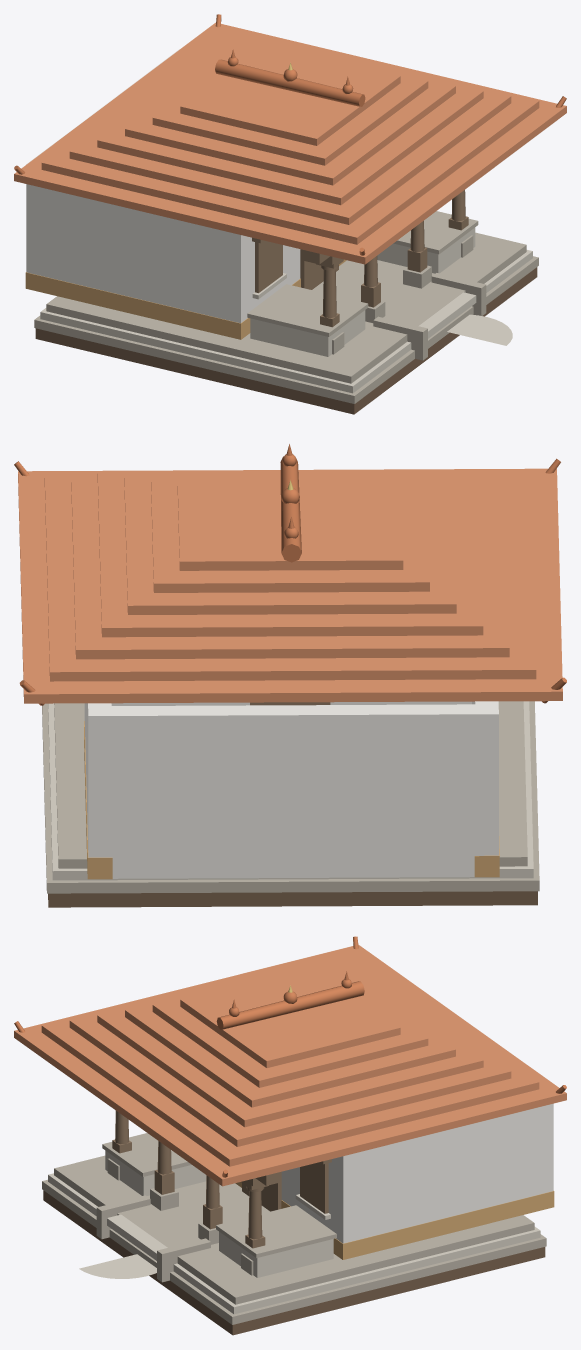
The model's file is south_indian_village_traditional_house.glb.
3 views of the same model, one above another, from view 1: azimuth 30°, elevation 25°; view 2: azimuth 150°, elevation 25°; view 3: azimuth 270°, elevation 25° (orthographic). The views are drawn at different scales.
Parts seen in each view (by area): view 1: Terracotta_Hipped_Roof, House_Granite_Plinth_Platform, House_Core_Enclosed_Walls, Front_Thinnai_Veranda, House_Subterranean_Foundation_Skirt, Carved_Door_And_Windows, Veranda_Pillar_3, Veranda_Pillar_1, Veranda_Pillar_2, Veranda_Pillar_4; view 2: Terracotta_Hipped_Roof, House_Core_Enclosed_Walls, House_Granite_Plinth_Platform, House_Subterranean_Foundation_Skirt; view 3: Terracotta_Hipped_Roof, House_Granite_Plinth_Platform, House_Core_Enclosed_Walls, Front_Thinnai_Veranda, House_Subterranean_Foundation_Skirt, Carved_Door_And_Windows, Veranda_Pillar_2, Veranda_Pillar_4, Veranda_Pillar_3, Veranda_Pillar_1.
Boxes of the visible parts, x1,y1,x2,y2 form: Terracotta_Hipped_Roof: (14, 14, 566, 264); House_Granite_Plinth_Platform: (34, 232, 538, 403); House_Core_Enclosed_Walls: (25, 49, 346, 339); Front_Thinnai_Veranda: (247, 211, 478, 356); House_Subterranean_Foundation_Skirt: (35, 267, 537, 414); Carved_Door_And_Windows: (252, 237, 338, 299); Veranda_Pillar_3: (403, 221, 431, 288); Veranda_Pillar_1: (316, 256, 344, 354); Veranda_Pillar_2: (361, 256, 385, 322); Veranda_Pillar_4: (448, 190, 473, 257); Terracotta_Hipped_Roof: (14, 456, 566, 705); House_Core_Enclosed_Walls: (84, 701, 499, 879); House_Granite_Plinth_Platform: (42, 701, 539, 893); House_Subterranean_Foundation_Skirt: (48, 891, 537, 907); Terracotta_Hipped_Roof: (14, 936, 566, 1186); House_Granite_Plinth_Platform: (42, 1155, 546, 1324); House_Core_Enclosed_Walls: (235, 1103, 554, 1259); Front_Thinnai_Veranda: (102, 1133, 336, 1277); House_Subterranean_Foundation_Skirt: (43, 1190, 545, 1335); Carved_Door_And_Windows: (242, 1159, 331, 1219); Veranda_Pillar_2: (150, 1141, 178, 1210); Veranda_Pillar_4: (241, 1178, 268, 1275); Veranda_Pillar_3: (198, 1175, 222, 1244); Veranda_Pillar_1: (107, 1110, 131, 1180).
Bounding box in the file's own units: 10.05 × 4.86 × 9.95.
